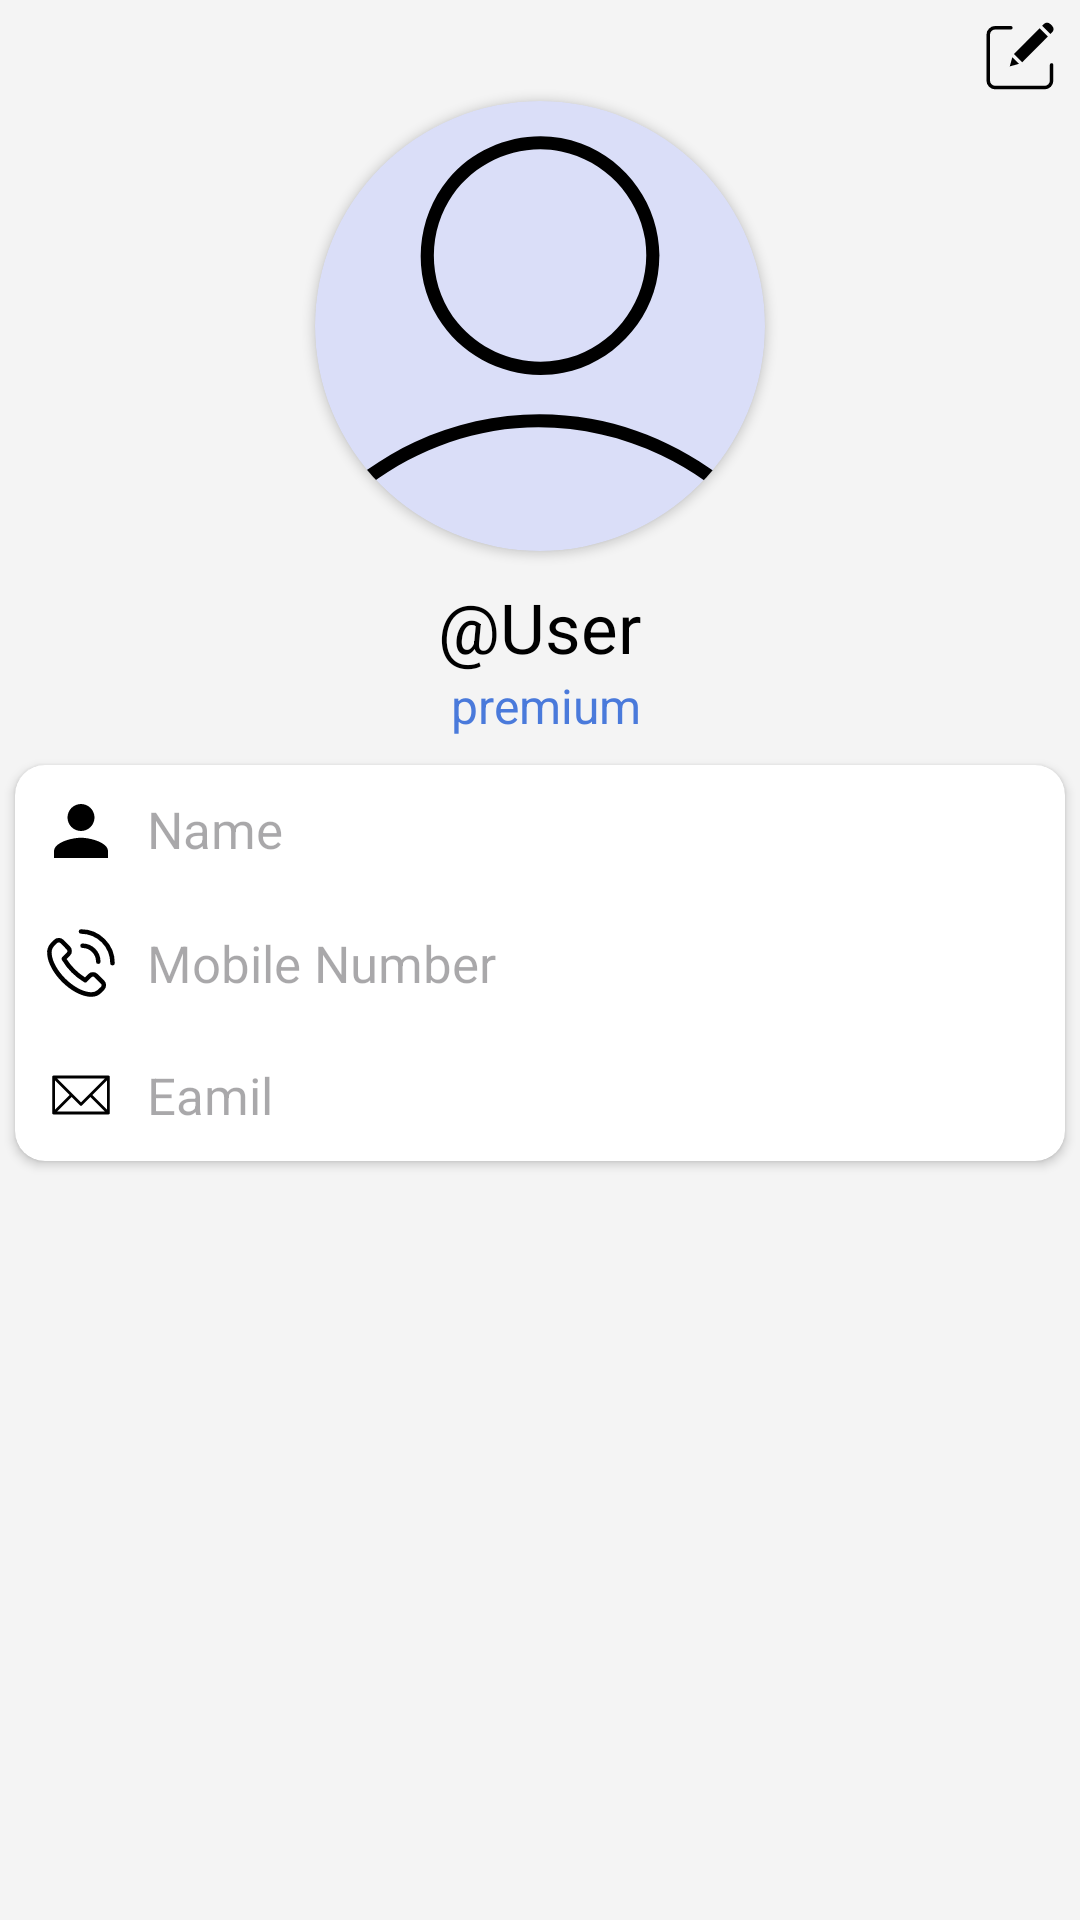

Icons on this 1080 x 1920 Android screen, each with the point to tap as point (x, y):
edit: point (1020, 56)
